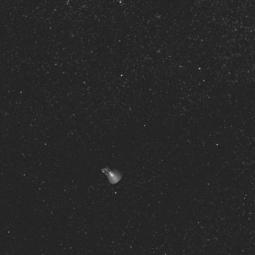debris: (98, 162, 128, 188)
